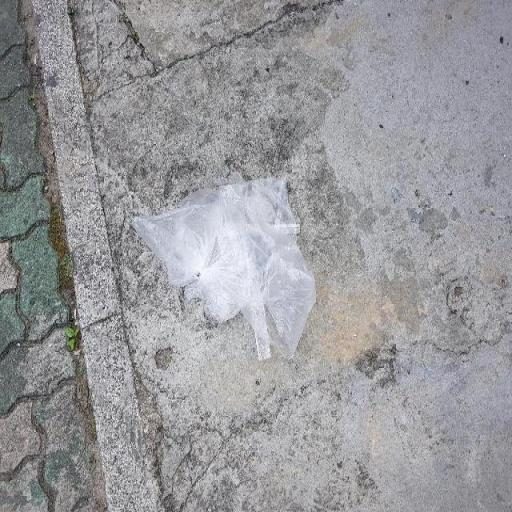plastic-bag: (129, 173, 319, 363)
